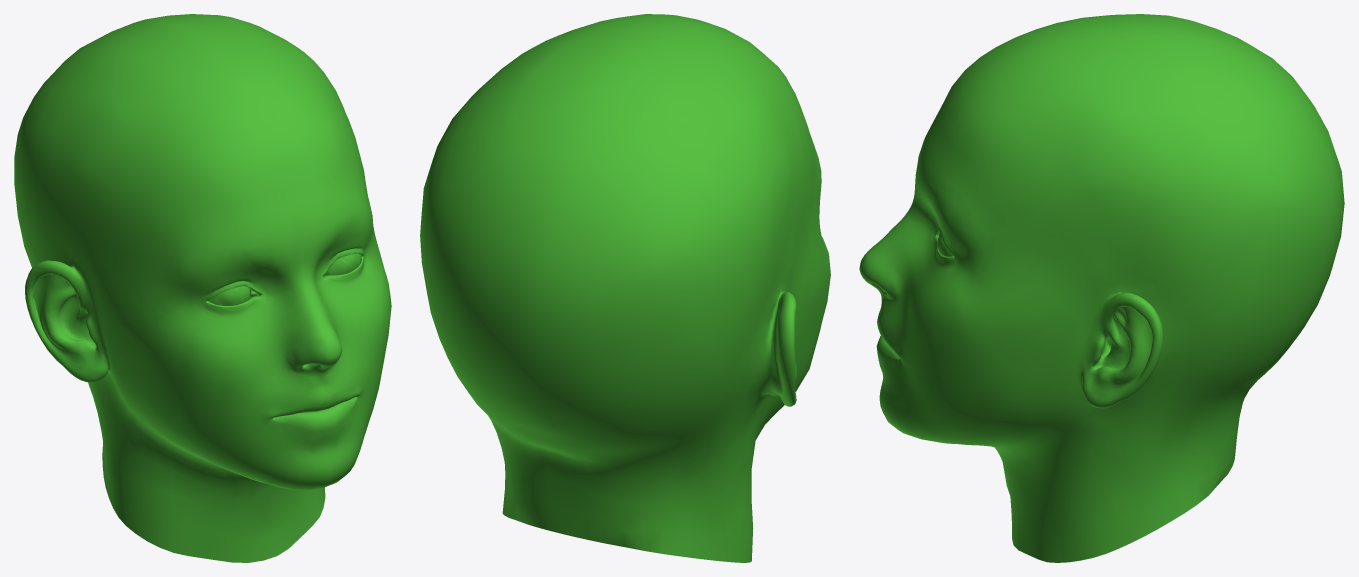
Rendered from holly.glb.
The picture shows the model from 3 angles, left to right: view 1: azimuth 30°, elevation 25°; view 2: azimuth 150°, elevation 25°; view 3: azimuth 270°, elevation 25°; orthographic projection. The views are drawn at different scales.
Visible parts, largest first — view 1: Head; view 2: Head; view 3: Head.
Part boxes in pixels (x1,y1,x2,y2): Head: (14, 14, 391, 562); Head: (420, 14, 830, 562); Head: (859, 14, 1344, 562).
Size of the model in its own units: 0.1904 by 0.2705 by 0.2355.
